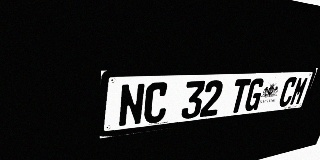2: (199, 80, 224, 117)
3: (180, 81, 206, 120)
C: (143, 82, 170, 124), (277, 77, 298, 107)
G: (243, 78, 266, 112)
M: (289, 76, 309, 106)
N: (118, 83, 146, 128)
T: (228, 79, 251, 114)
